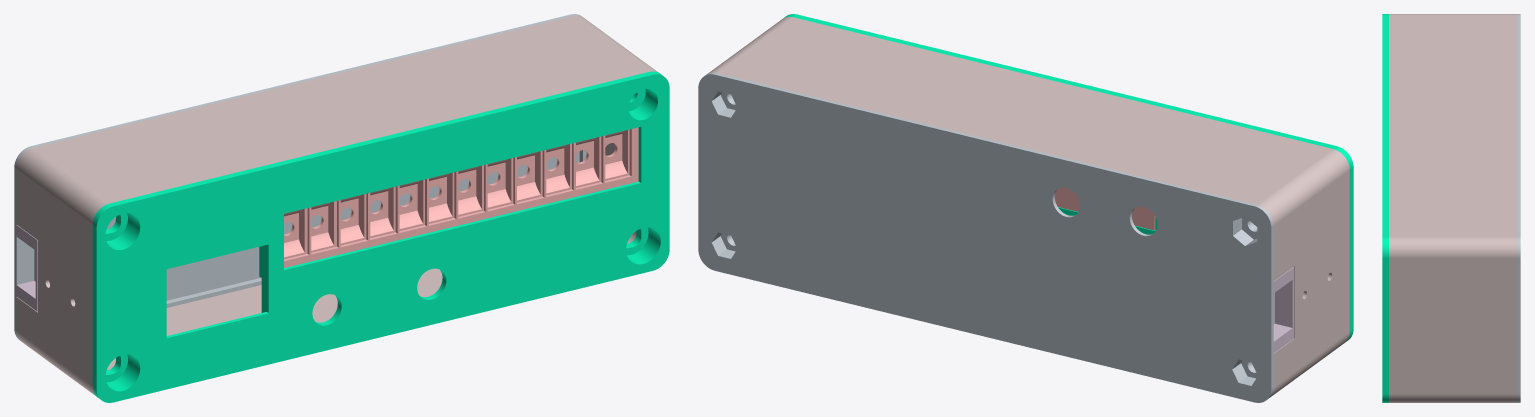
The model's file is meter.glb.
3 renders of one model, left to right at view 1: azimuth 30°, elevation 25°; view 2: azimuth 150°, elevation 25°; view 3: azimuth 270°, elevation 25°, orthographic. The views are drawn at different scales.
Visible parts, largest first — view 1: Solid (×5); view 2: Solid (×5); view 3: Solid (×3).
Part boxes in pixels (<box>): Solid (×5): <box>14,14,669,402</box>; Solid (×5): <box>698,14,1353,402</box>; Solid (×3): <box>1382,14,1520,402</box>.
Size of the model in its own units: 0.1486 by 0.0486 by 0.037.
